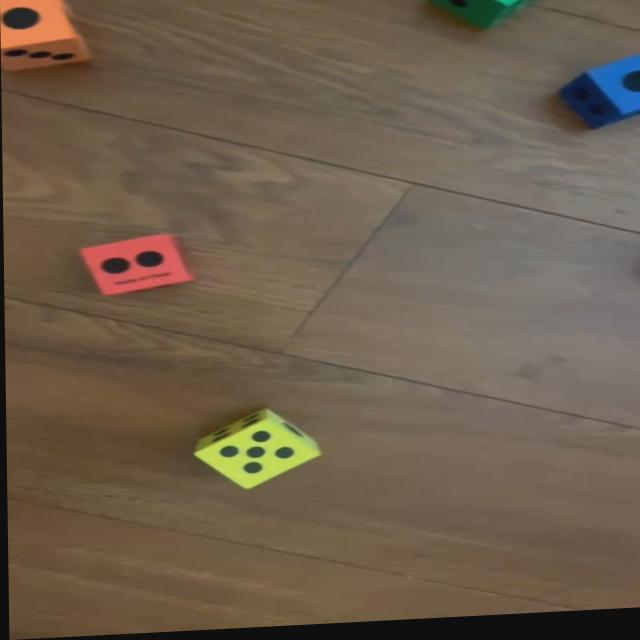blue_block: (562, 63, 640, 135)
red_block: (79, 232, 195, 297)
